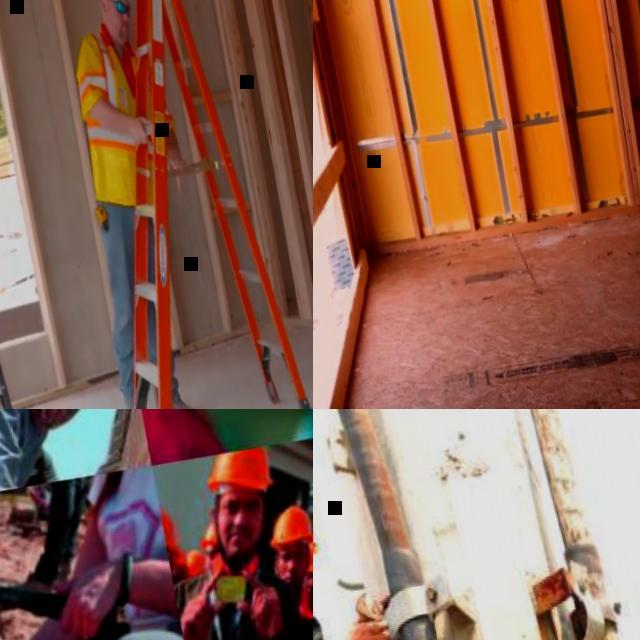helmet: (200, 440, 280, 498), (257, 502, 313, 548), (157, 507, 181, 552), (178, 547, 208, 575), (299, 534, 313, 574), (200, 522, 217, 552)
vest: (66, 15, 178, 163)
